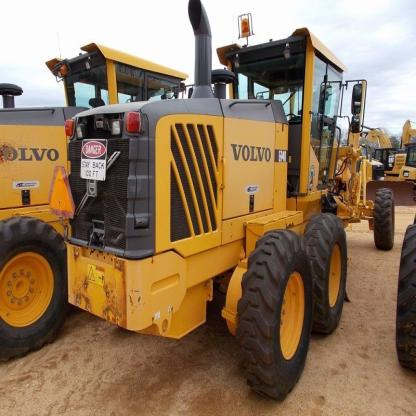bull_dozer/loader/grader: (44, 15, 413, 397)
